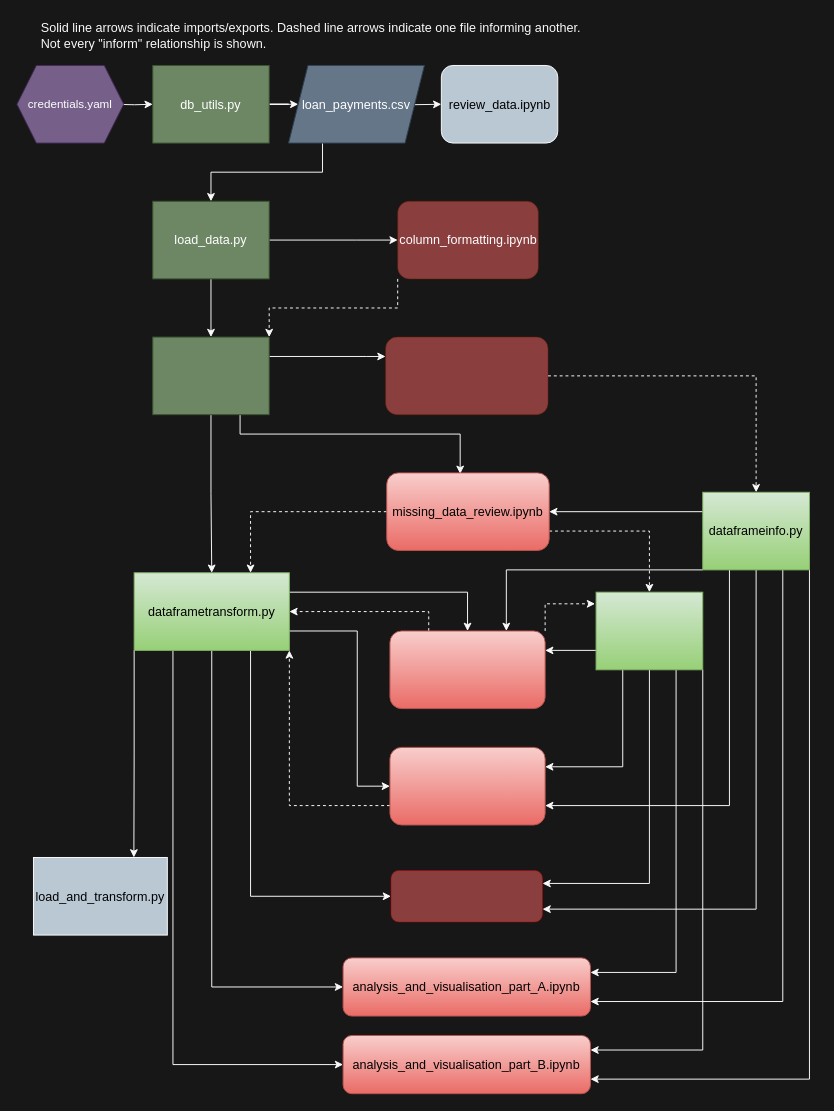
This 834x1111 diagram has some shape labels left out. Each missing label, with the centre of its shape:
"dataframe_info_class.ipynb" goes at (466,375).
"eda_part_1.ipynb" goes at (466,896).
"outlier_review.ipynb" goes at (467,785).
"plotter.py" goes at (649,630).
"skew_review.ipynb" goes at (467,669).
"transformed_data.py" goes at (210,375).
